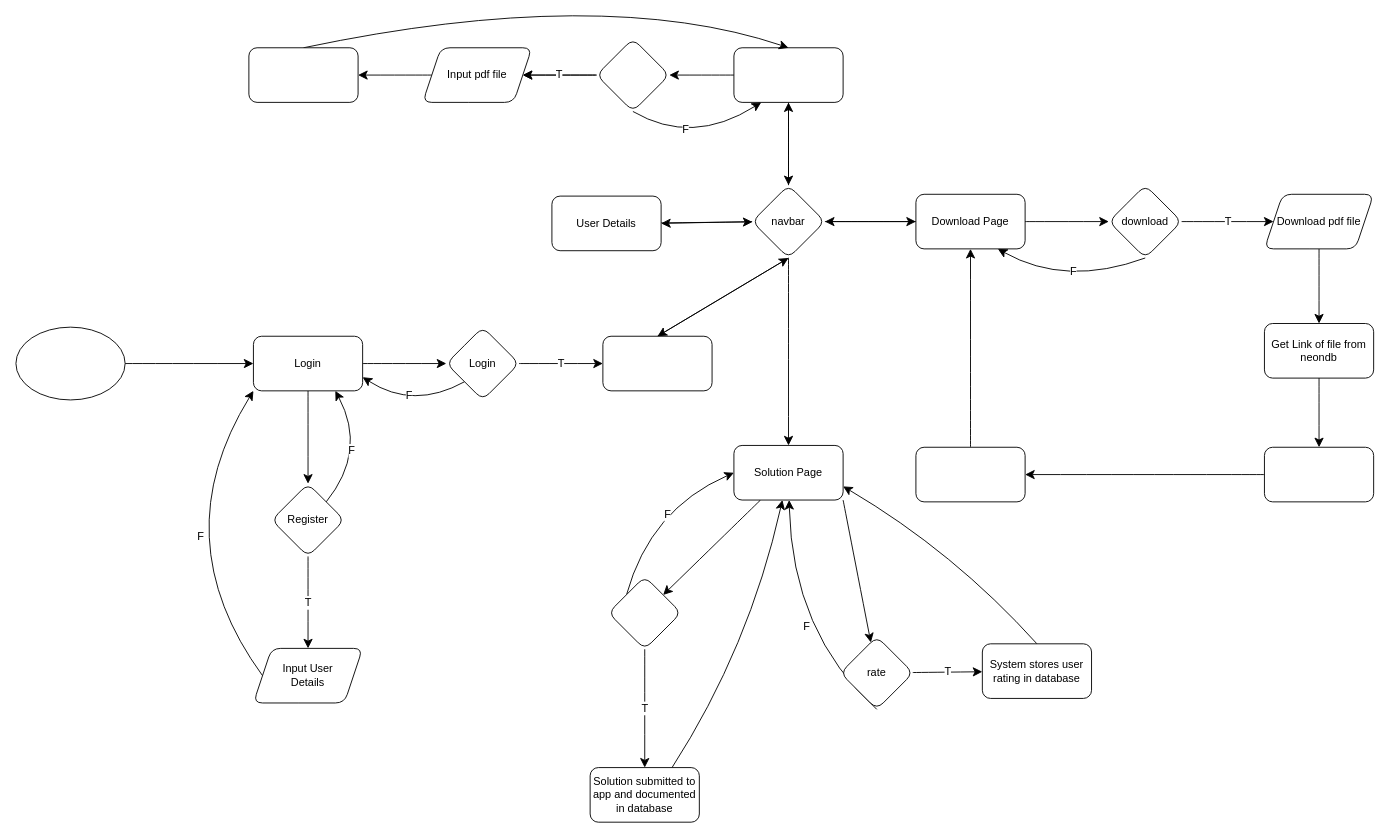
The diagram is 1390 pixels wide and 839 high, and some of its shapes have lost their labels. Here are the shapes that lost their labels. From the top down, the centre of each, then its label:
At pixel 303 74: "File uploaded to Firebase storage".
At pixel 632 74: "upload".
At pixel 788 74: "Upload Page".
At pixel 70 363: "Start".
At pixel 657 363: "Homepage".
At pixel 970 474: "Frontend processes link and download file from Firebase Storage".
At pixel 1319 474: "Link forwarded to frontend".
At pixel 644 612: "submit".
